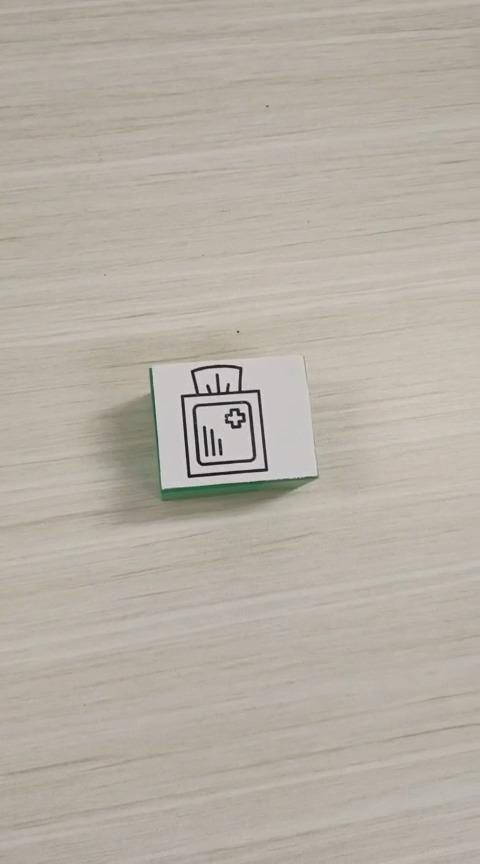Gauze: (148, 352, 318, 501)
